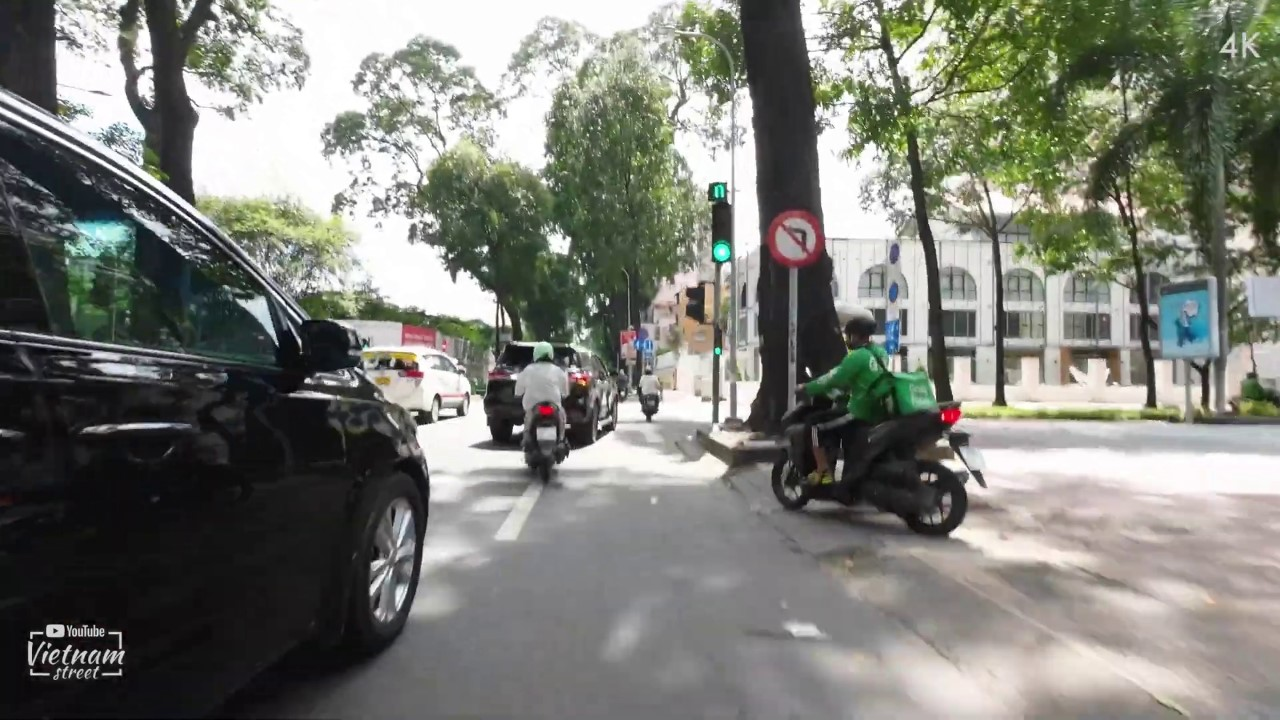cam_re_trai: (766, 208, 824, 268)
